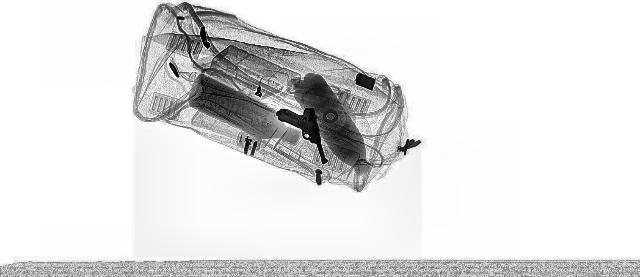Gun: (273, 104, 347, 166)
